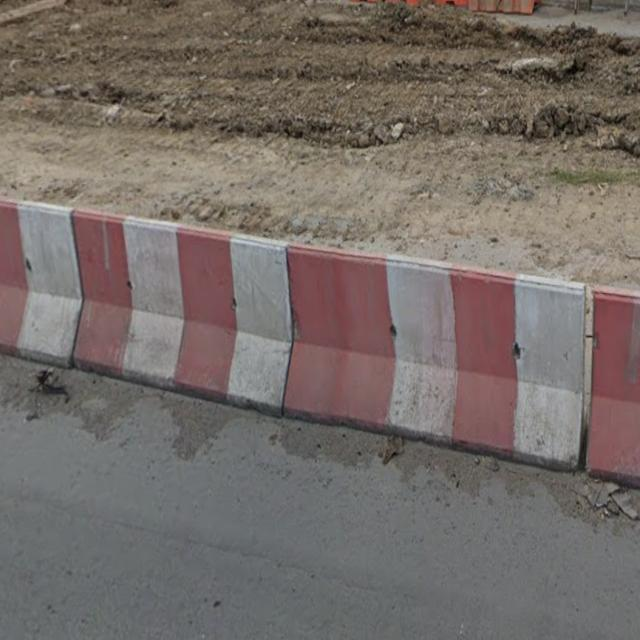fallen_object: (283, 236, 579, 496), (57, 182, 306, 433), (561, 271, 640, 507), (0, 189, 81, 387)
